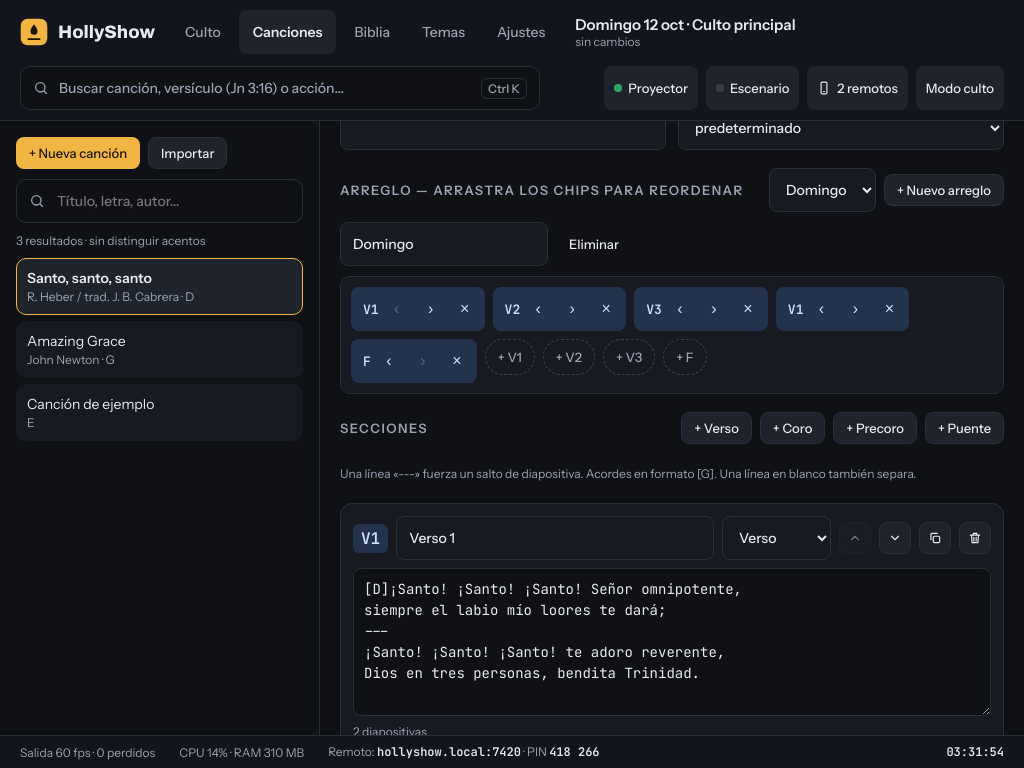
Test: songs › adds a section and reflects it in the arrangement chips and preview
(page scrolled)
Click the button "+ Coro" at (793, 428), box [760,412,825,444]
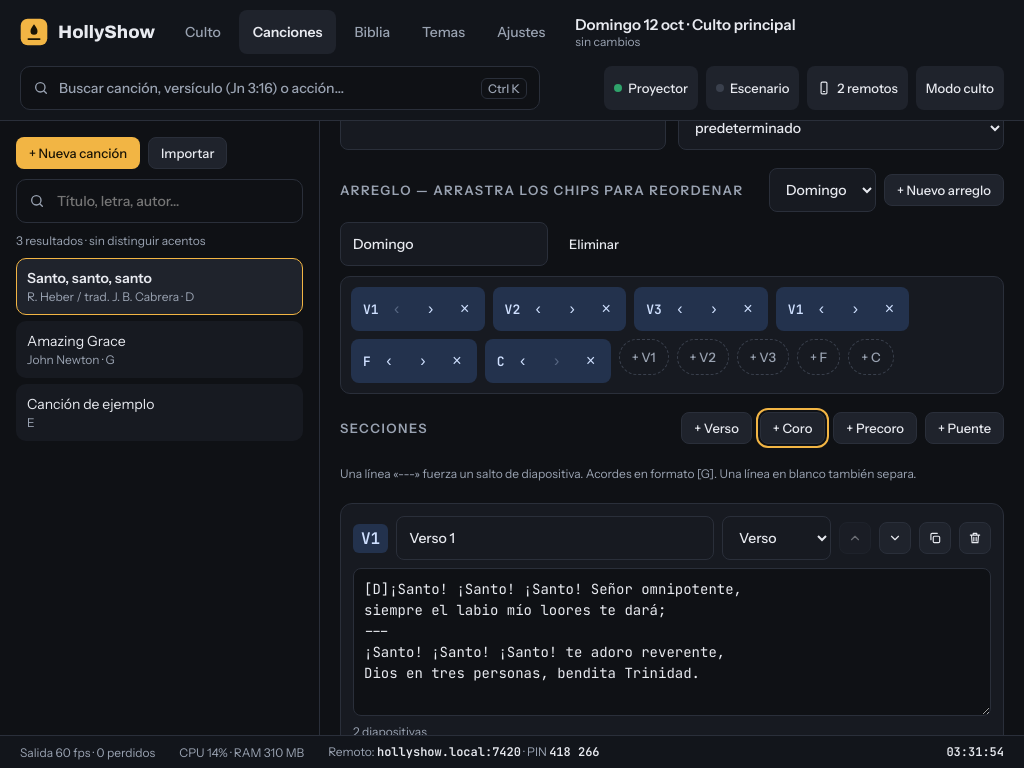
Click the button named "Agregar Coro" at (871, 357), box [848,339,894,375]
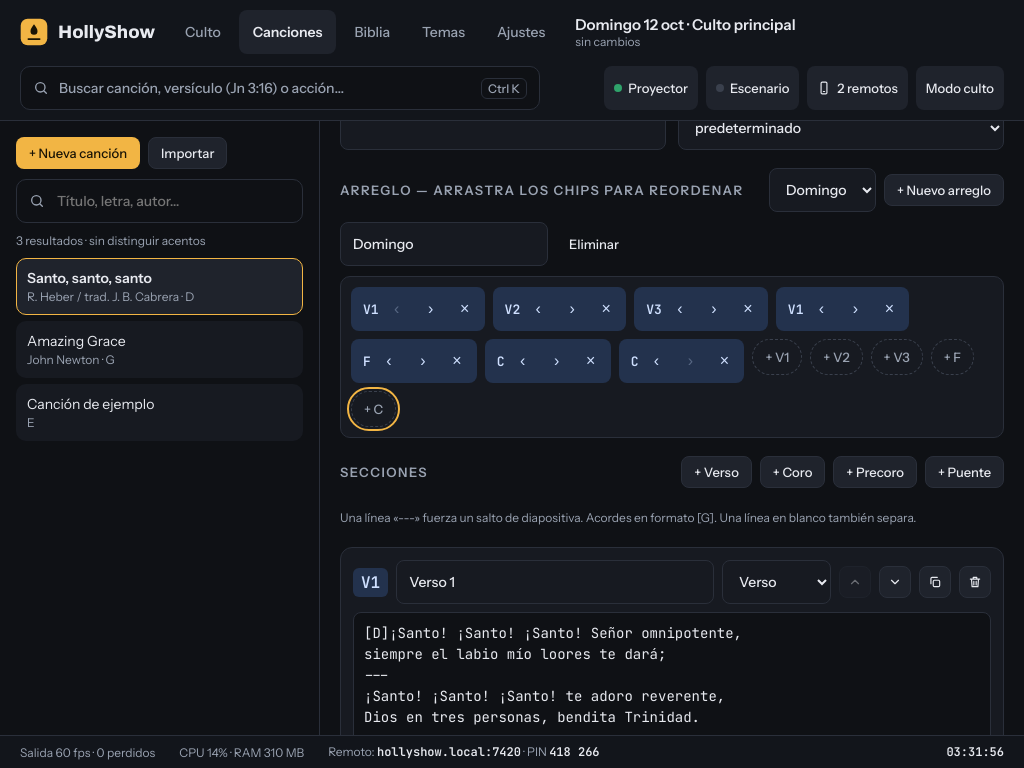
Result: the number of list items with class "seq-chip" is 7
